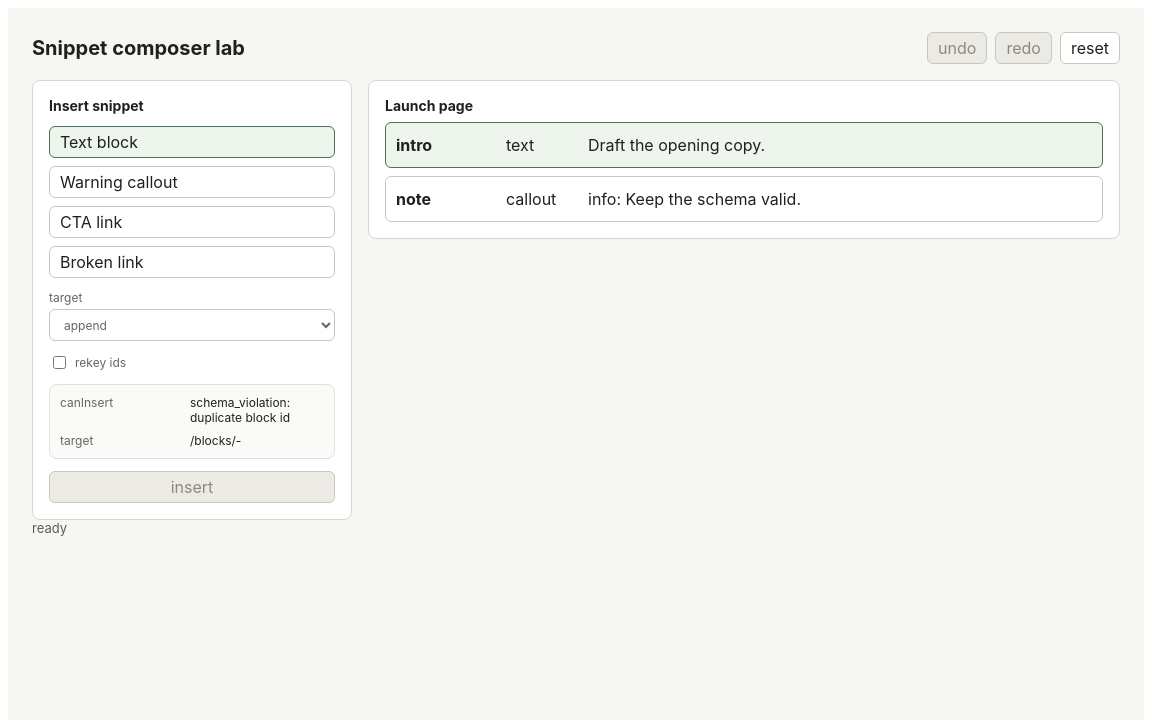
Test: snippet composer lab dogfood › inserts a duplicate-id snippet after rekey is enabled
The width and height of the screenshot is (1152, 720).
Click the checkbox labelled "rekey ids" at [60, 362], box [53,356,66,369]
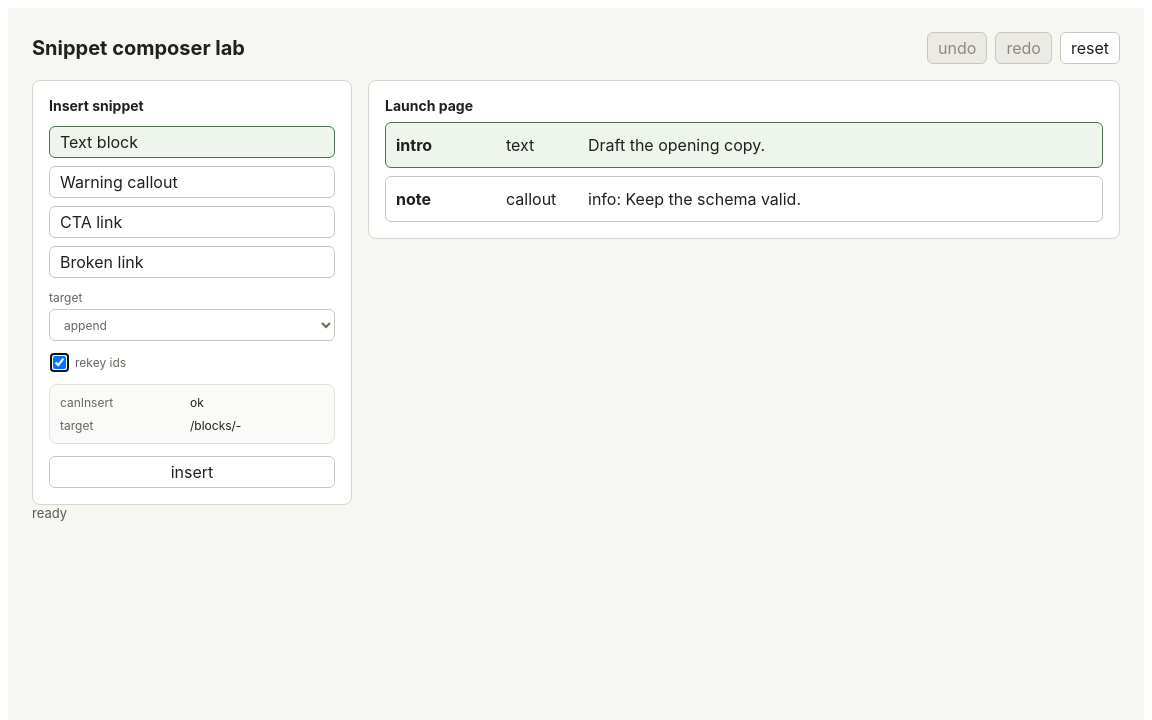
Click the button "insert" at [192, 472], box [49,456,335,488]
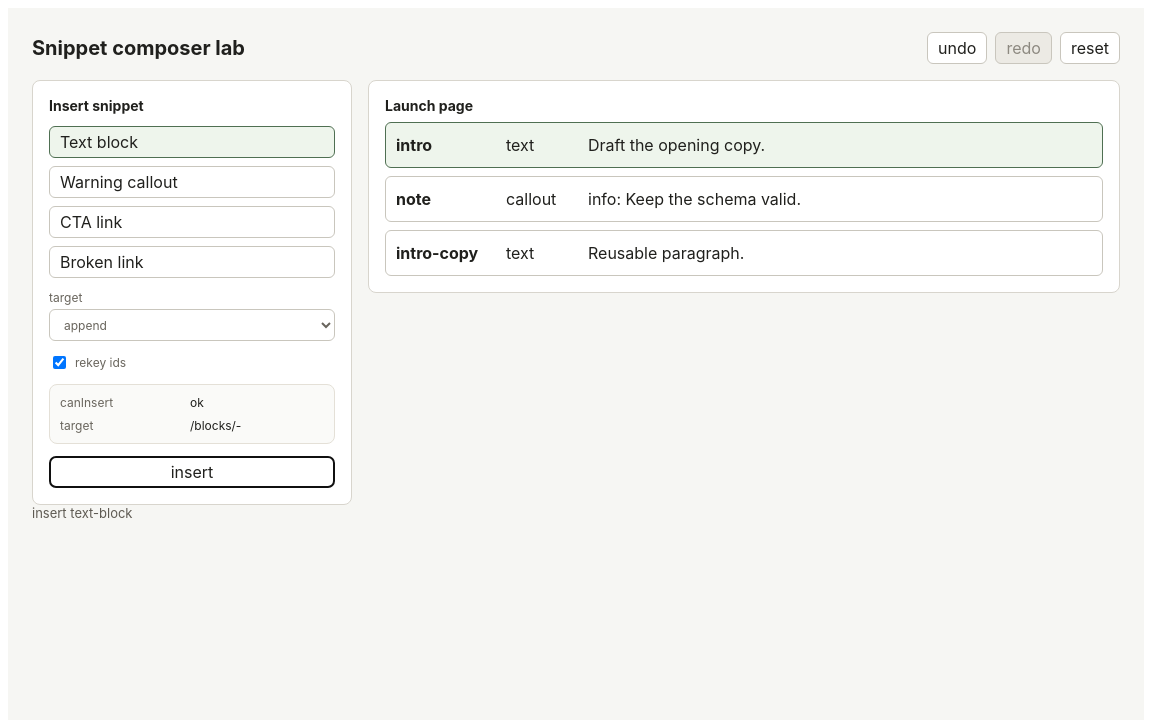
Result: the text named "canInsert" reads "ok" at [190,395,204,410]
Result: the text "intro-copy" is shown at [396,243,478,263]
Result: the message reads "insert text-block" at [32,505,132,521]
